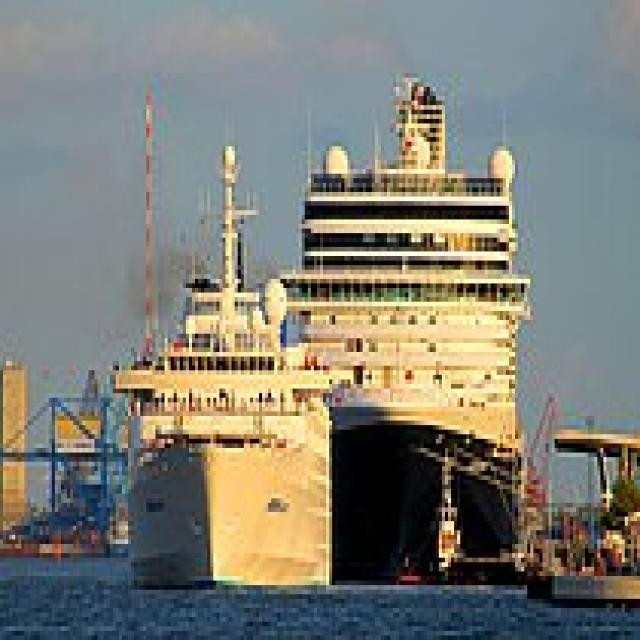Ship: (276, 74, 541, 595), (111, 124, 352, 600)
